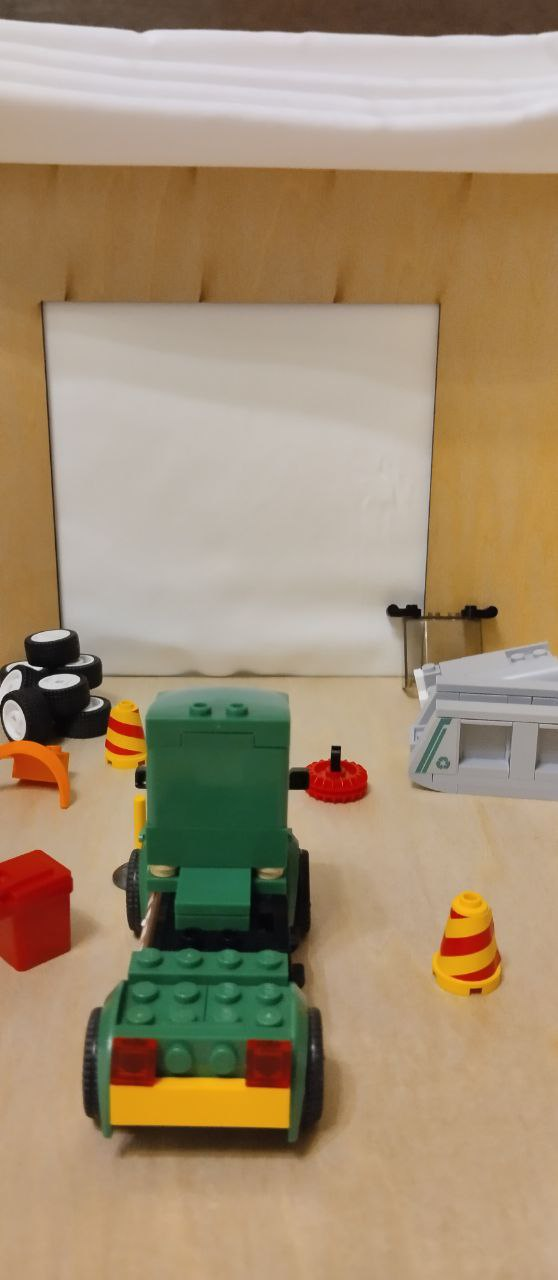Cone: (430, 882, 510, 1002), (98, 698, 155, 773)
Object Red: (0, 840, 86, 972)
Truck: (69, 678, 345, 1160)
